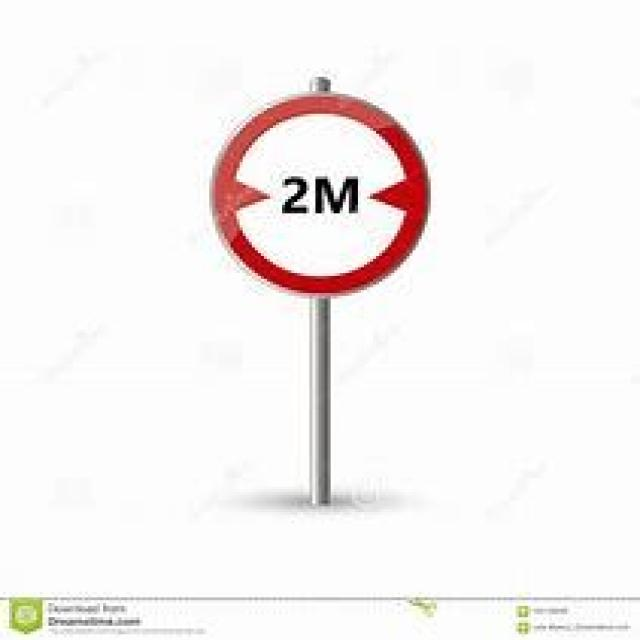do_not_u_turn: (209, 91, 428, 290)
